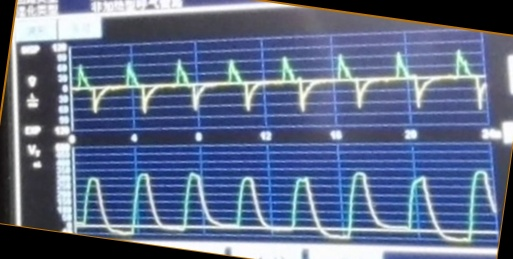Accumulation Flow: (74, 48, 487, 118)
Volume: (78, 168, 497, 243)
